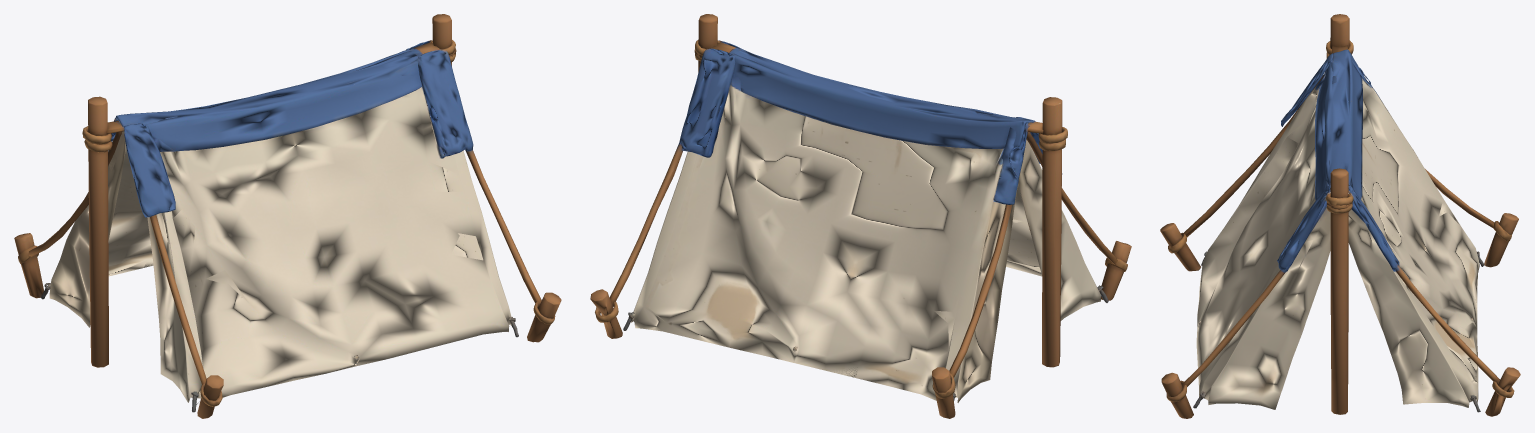
The model's file is tripo-tent.glb.
The picture shows the model from 3 angles, left to right: view 1: azimuth 30°, elevation 25°; view 2: azimuth 150°, elevation 25°; view 3: azimuth 270°, elevation 25°; orthographic projection. The views are drawn at different scales.
Visible parts, largest first — view 1: camp-tent; view 2: camp-tent; view 3: camp-tent.
Part boxes in pixels (box(x1,y1,x2,y2)): camp-tent: box(14, 14, 561, 418); camp-tent: box(590, 14, 1131, 418); camp-tent: box(1160, 14, 1520, 418).
Size of the model in its own units: 3.34 by 2.2 by 2.98.
1 material, 1 textured.
